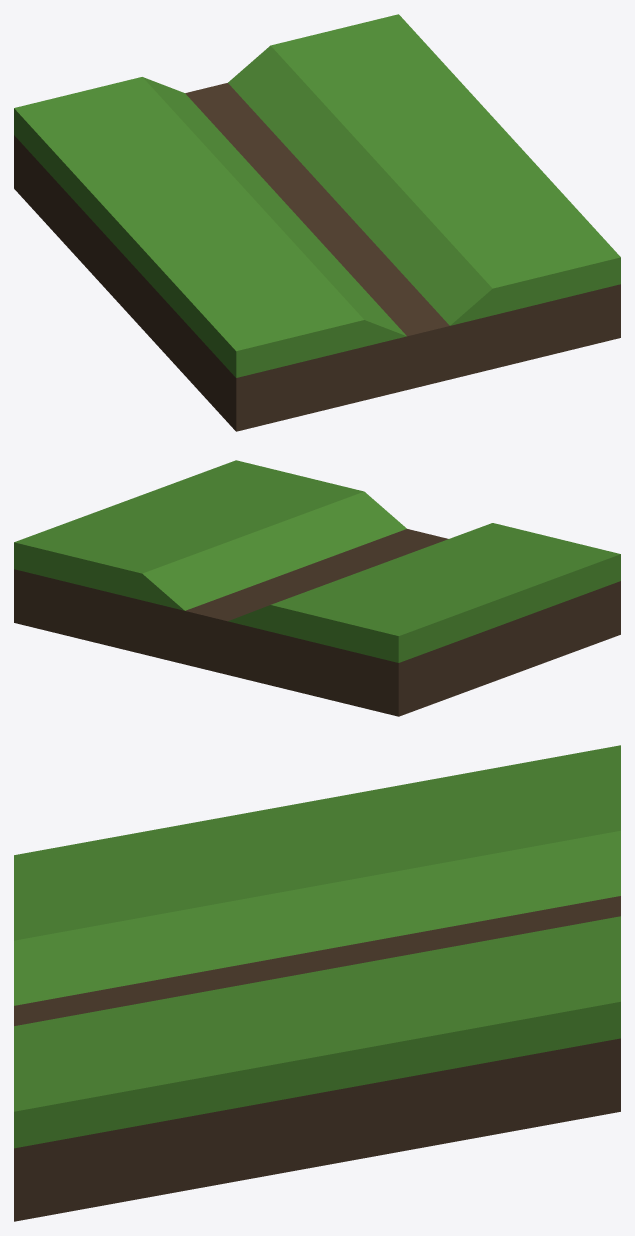
The model's file is tile-river-basin-hill.glb.
3 renders of one model, top to bottom at view 1: azimuth 30°, elevation 25°; view 2: azimuth 150°, elevation 25°; view 3: azimuth 270°, elevation 25°, orthographic. The views are drawn at different scales.
Parts seen in each view (by area): view 1: tile-river-basin-hill; view 2: tile-river-basin-hill; view 3: tile-river-basin-hill.
Part boxes in pixels (box(x1,y1,x2,y2)): tile-river-basin-hill: box(14, 14, 620, 431); tile-river-basin-hill: box(14, 460, 620, 716); tile-river-basin-hill: box(14, 745, 620, 1221).
Bounding box in the file's own units: 30 × 12 × 30.
1 material, 1 textured.
